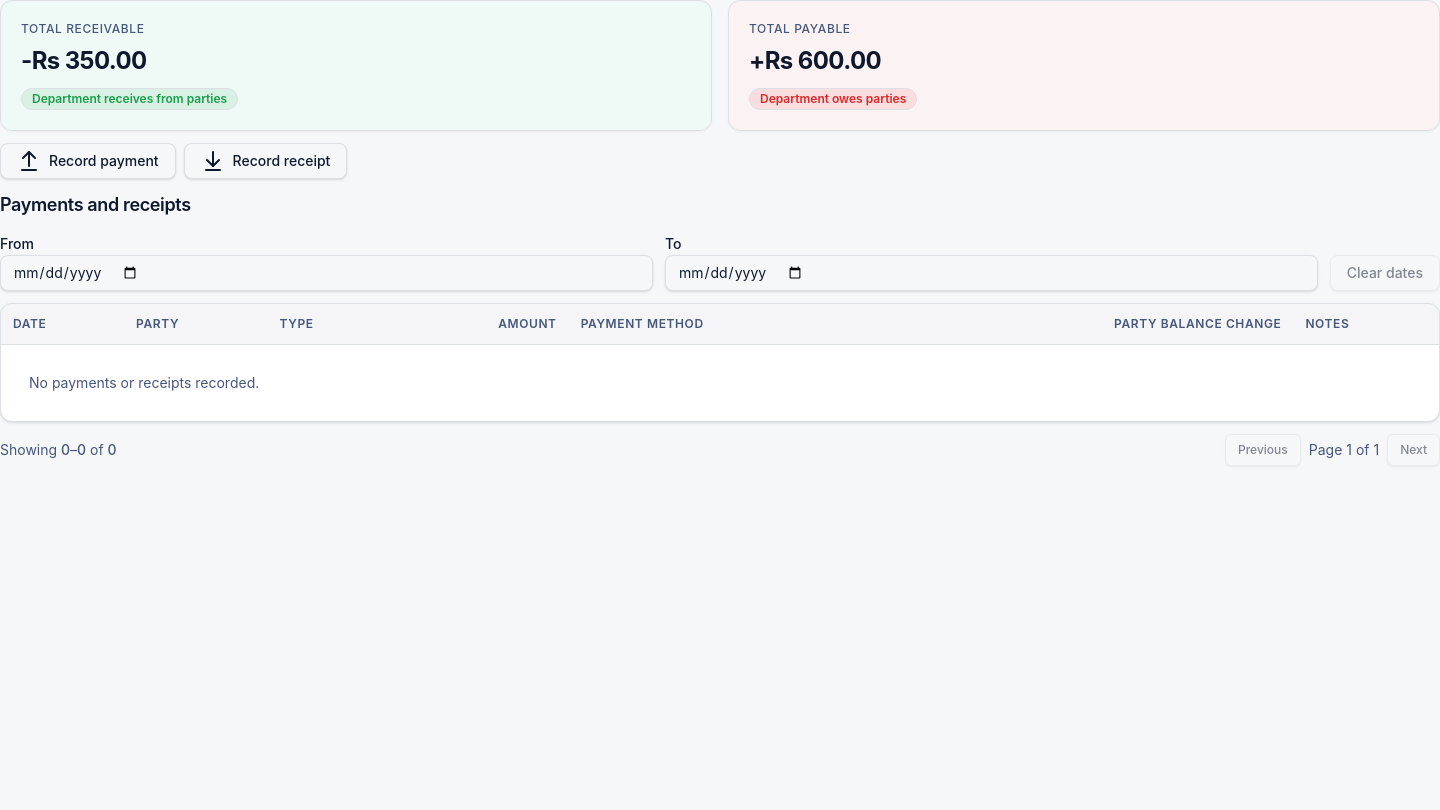
DepartmentBalancesPanel › searches parties and includes saved zero-balance parties
The image size is (1440, 810).
Click the button "Record payment" at (88, 161), box [0,143,176,179]
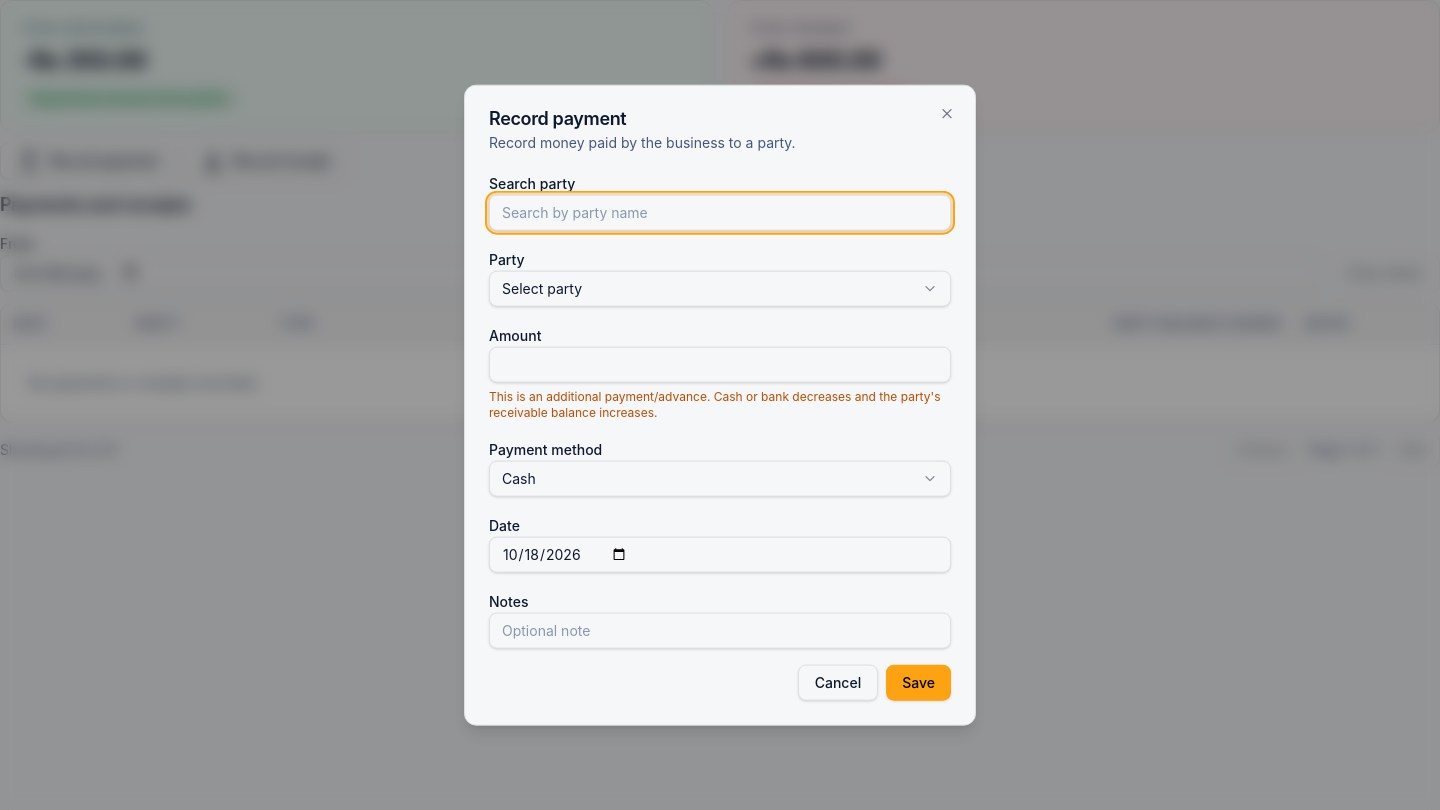
Expected: the field labelled "Search party" is shown, [489,194,951,230]
Click the dropdown labelled "Select party" at (542, 288), box [489,270,951,306]
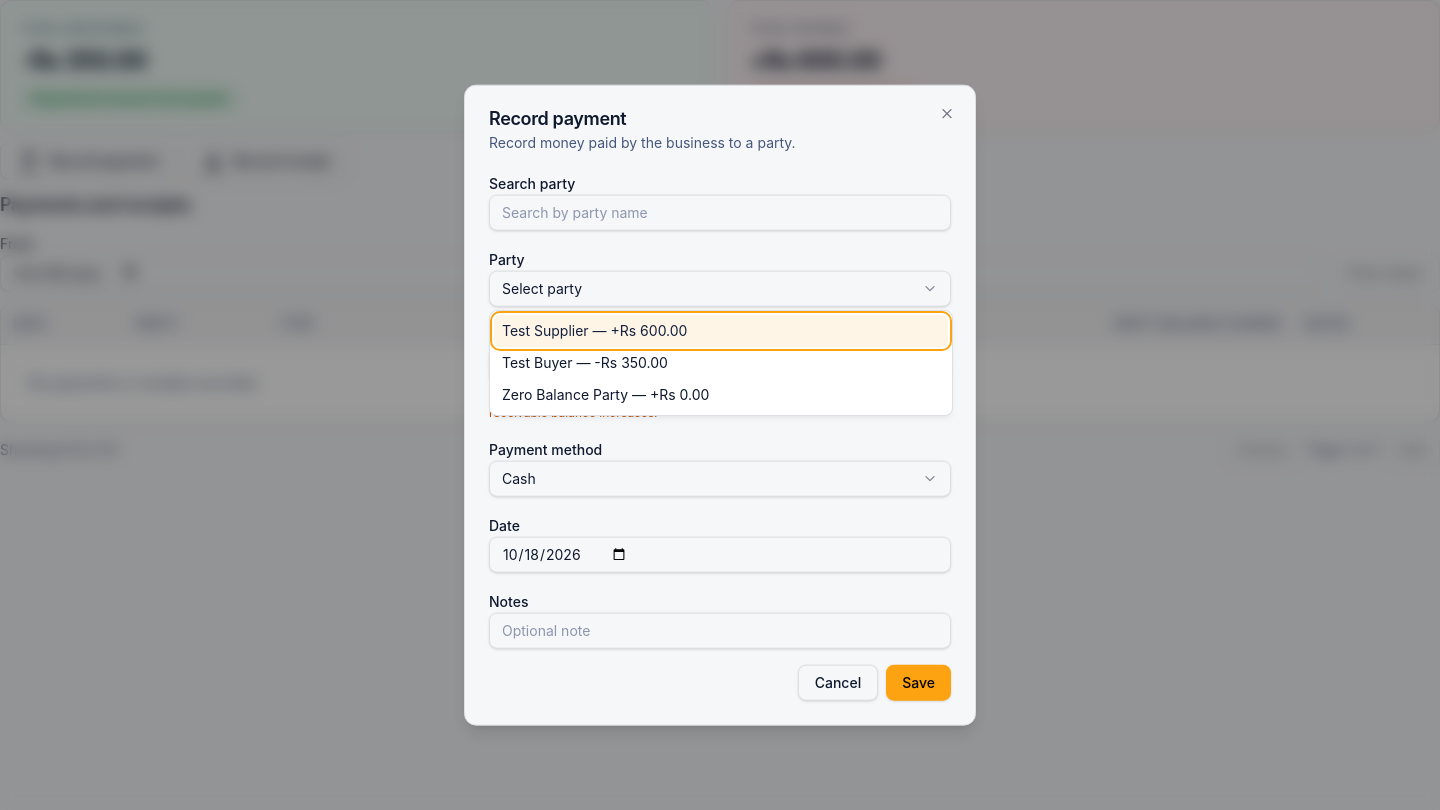
Expected: the option "Zero Balance Party — +Rs 0.00" is shown, [502,386,709,403]
Expected: the option "Test Supplier — +Rs 600.00" is shown
Click the option "Test Supplier — +Rs 600.00" at (545, 330), box [494,315,948,347]
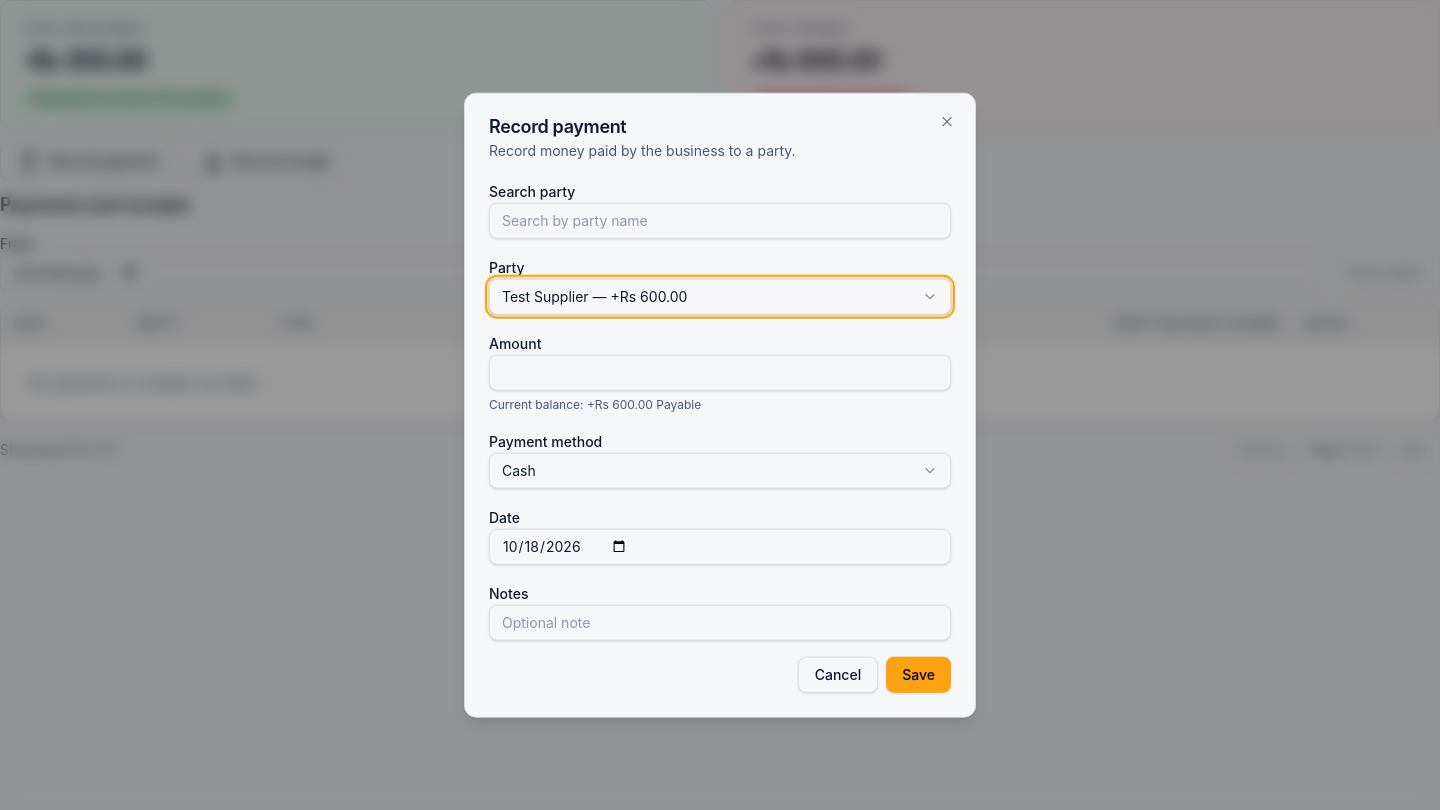
Type "buyer" into the field labelled "Search party" at (720, 220), box [489,202,951,238]
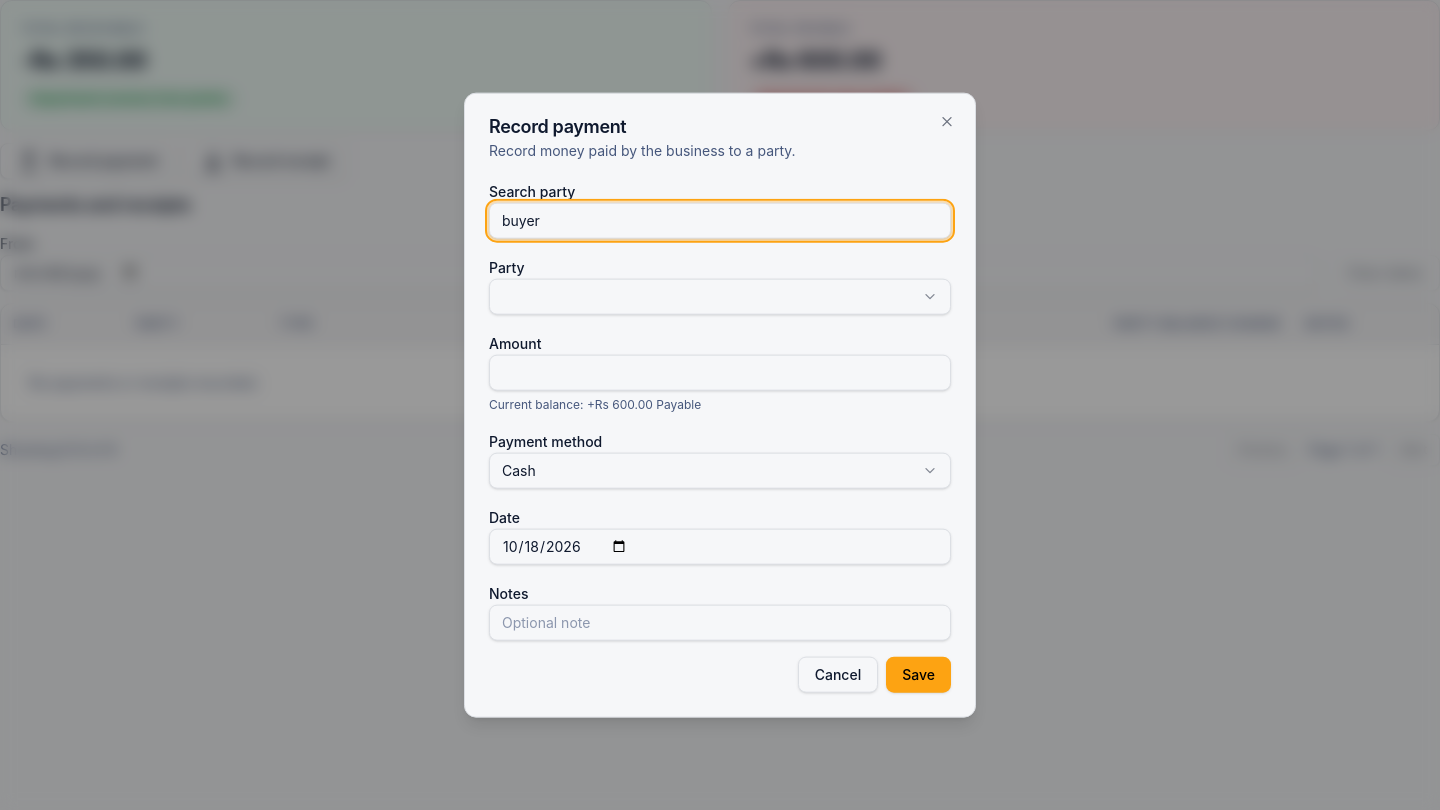
Click the 1st dropdown at (930, 296), box [489,278,951,314]
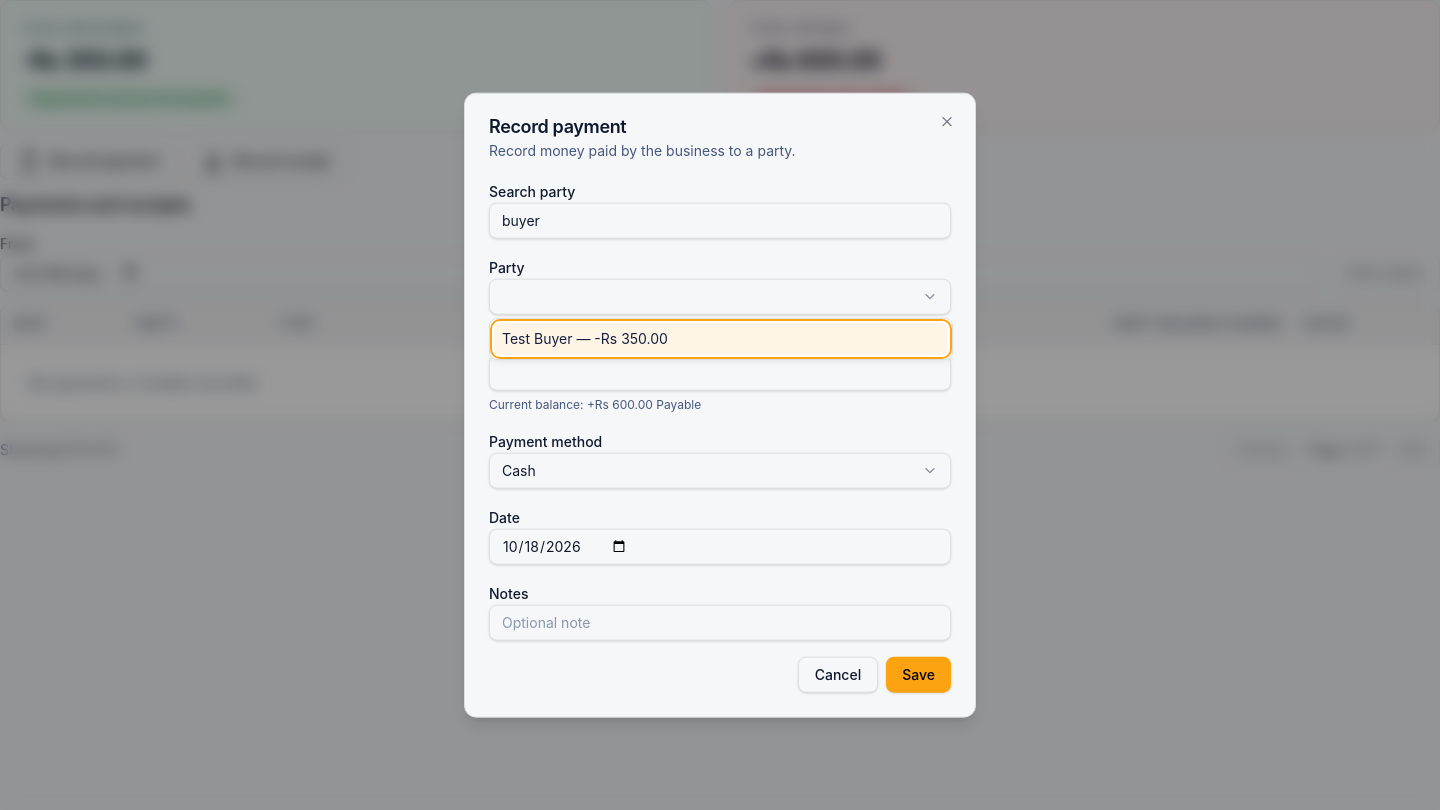
Expected: the dropdown labelled "Test Supplier" is not shown
Expected: the option "Test Buyer — -Rs 350.00" is shown, [494,323,948,355]
